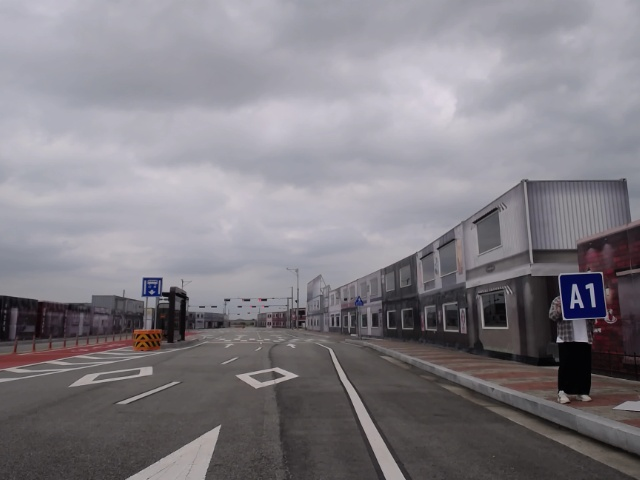delivery_a1: (559, 273, 607, 320)
